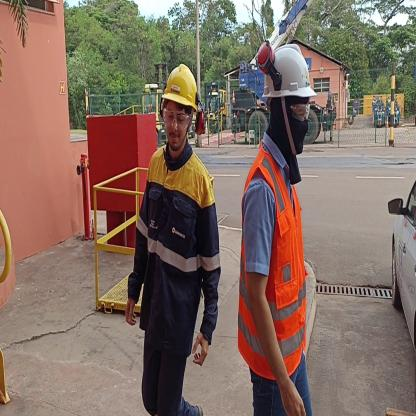Balaclava: (266, 96, 314, 160)
C_eletrica: (132, 144, 221, 350)
Capacete: (257, 39, 316, 98), (159, 57, 200, 106)
colete: (238, 146, 312, 378)
